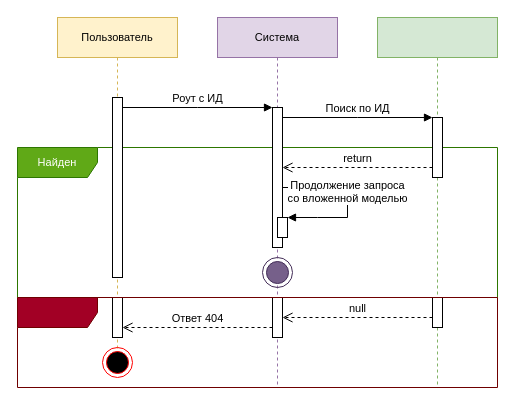
Some shapes in this 515 by 405 pixel diagram are drawn without their labels. Here are the shapes that lost their labels. From the top down, the centre of each, then its label:
At point (437, 202): "База данных".
At point (257, 342): "Не найден".
